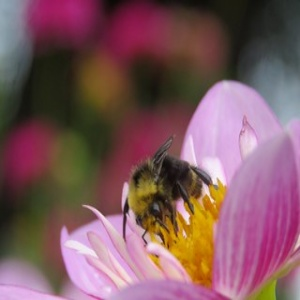bee: (120, 135, 221, 241)
